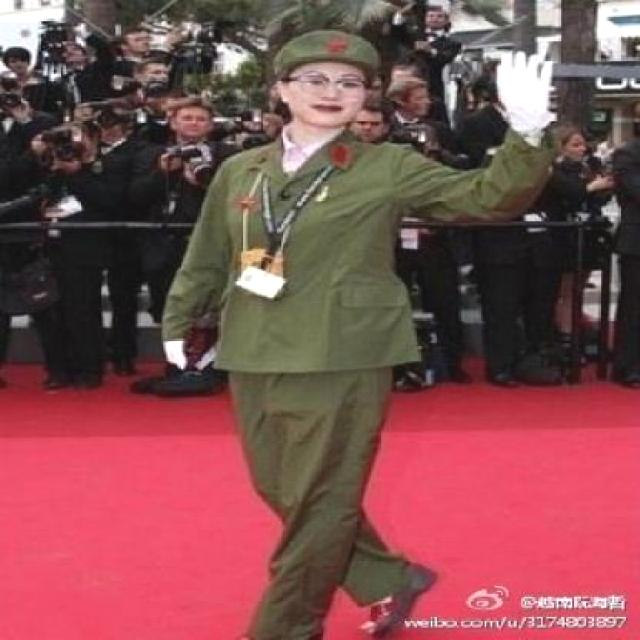face_nomask: (280, 65, 366, 129), (175, 105, 214, 138)
glasses: (296, 72, 367, 98)
hand_glove: (492, 49, 554, 128), (161, 336, 197, 366)
hand_noglove: (583, 171, 611, 192), (162, 24, 186, 44), (8, 95, 28, 118), (154, 153, 180, 170), (71, 98, 91, 120), (52, 157, 80, 169), (180, 163, 197, 182), (395, 0, 415, 15), (28, 134, 42, 151)
head_nohelmet: (262, 32, 383, 78), (172, 98, 217, 115)
person: (203, 21, 484, 640), (157, 97, 240, 225)
